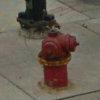Hydrant: (28, 15, 78, 92)
